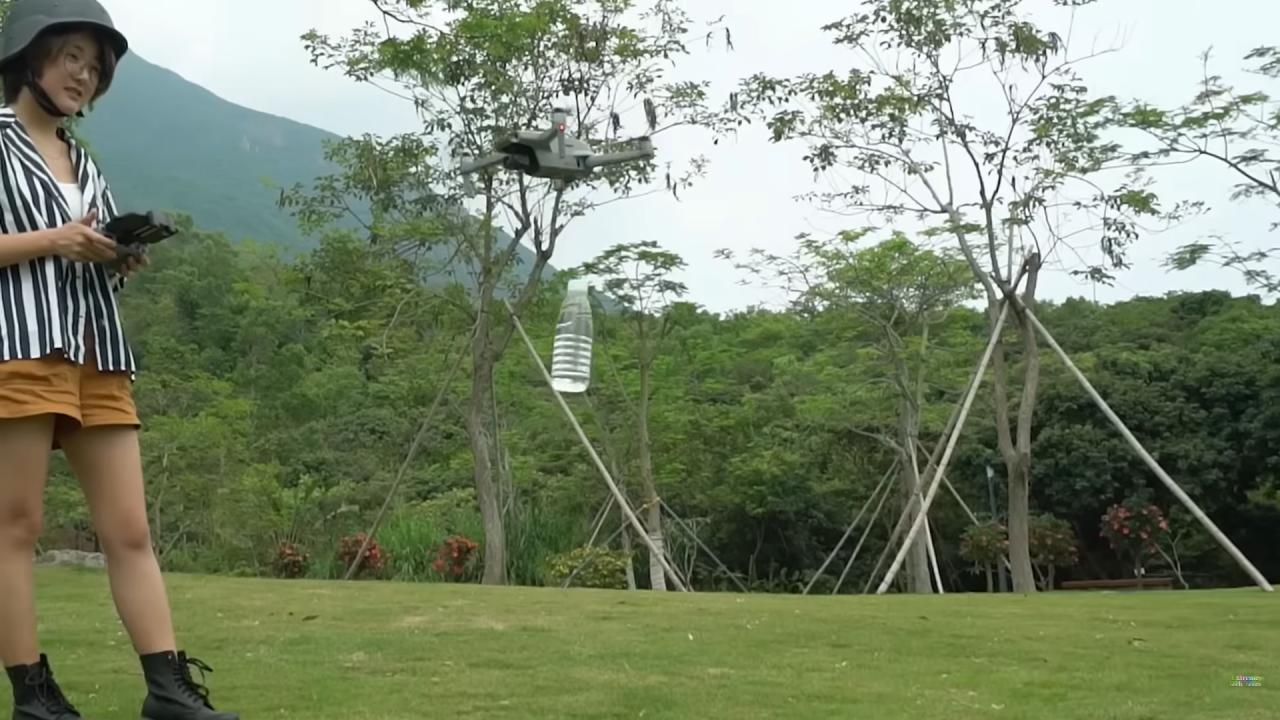Drone: (448, 95, 662, 198)
